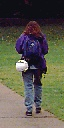person: (14, 19, 50, 117)
